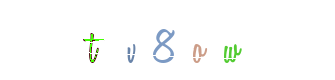8: (127, 0, 207, 80)
O: (138, 0, 218, 80)
T: (52, 0, 132, 80)
V: (116, 0, 196, 80)
W: (144, 0, 224, 80)
